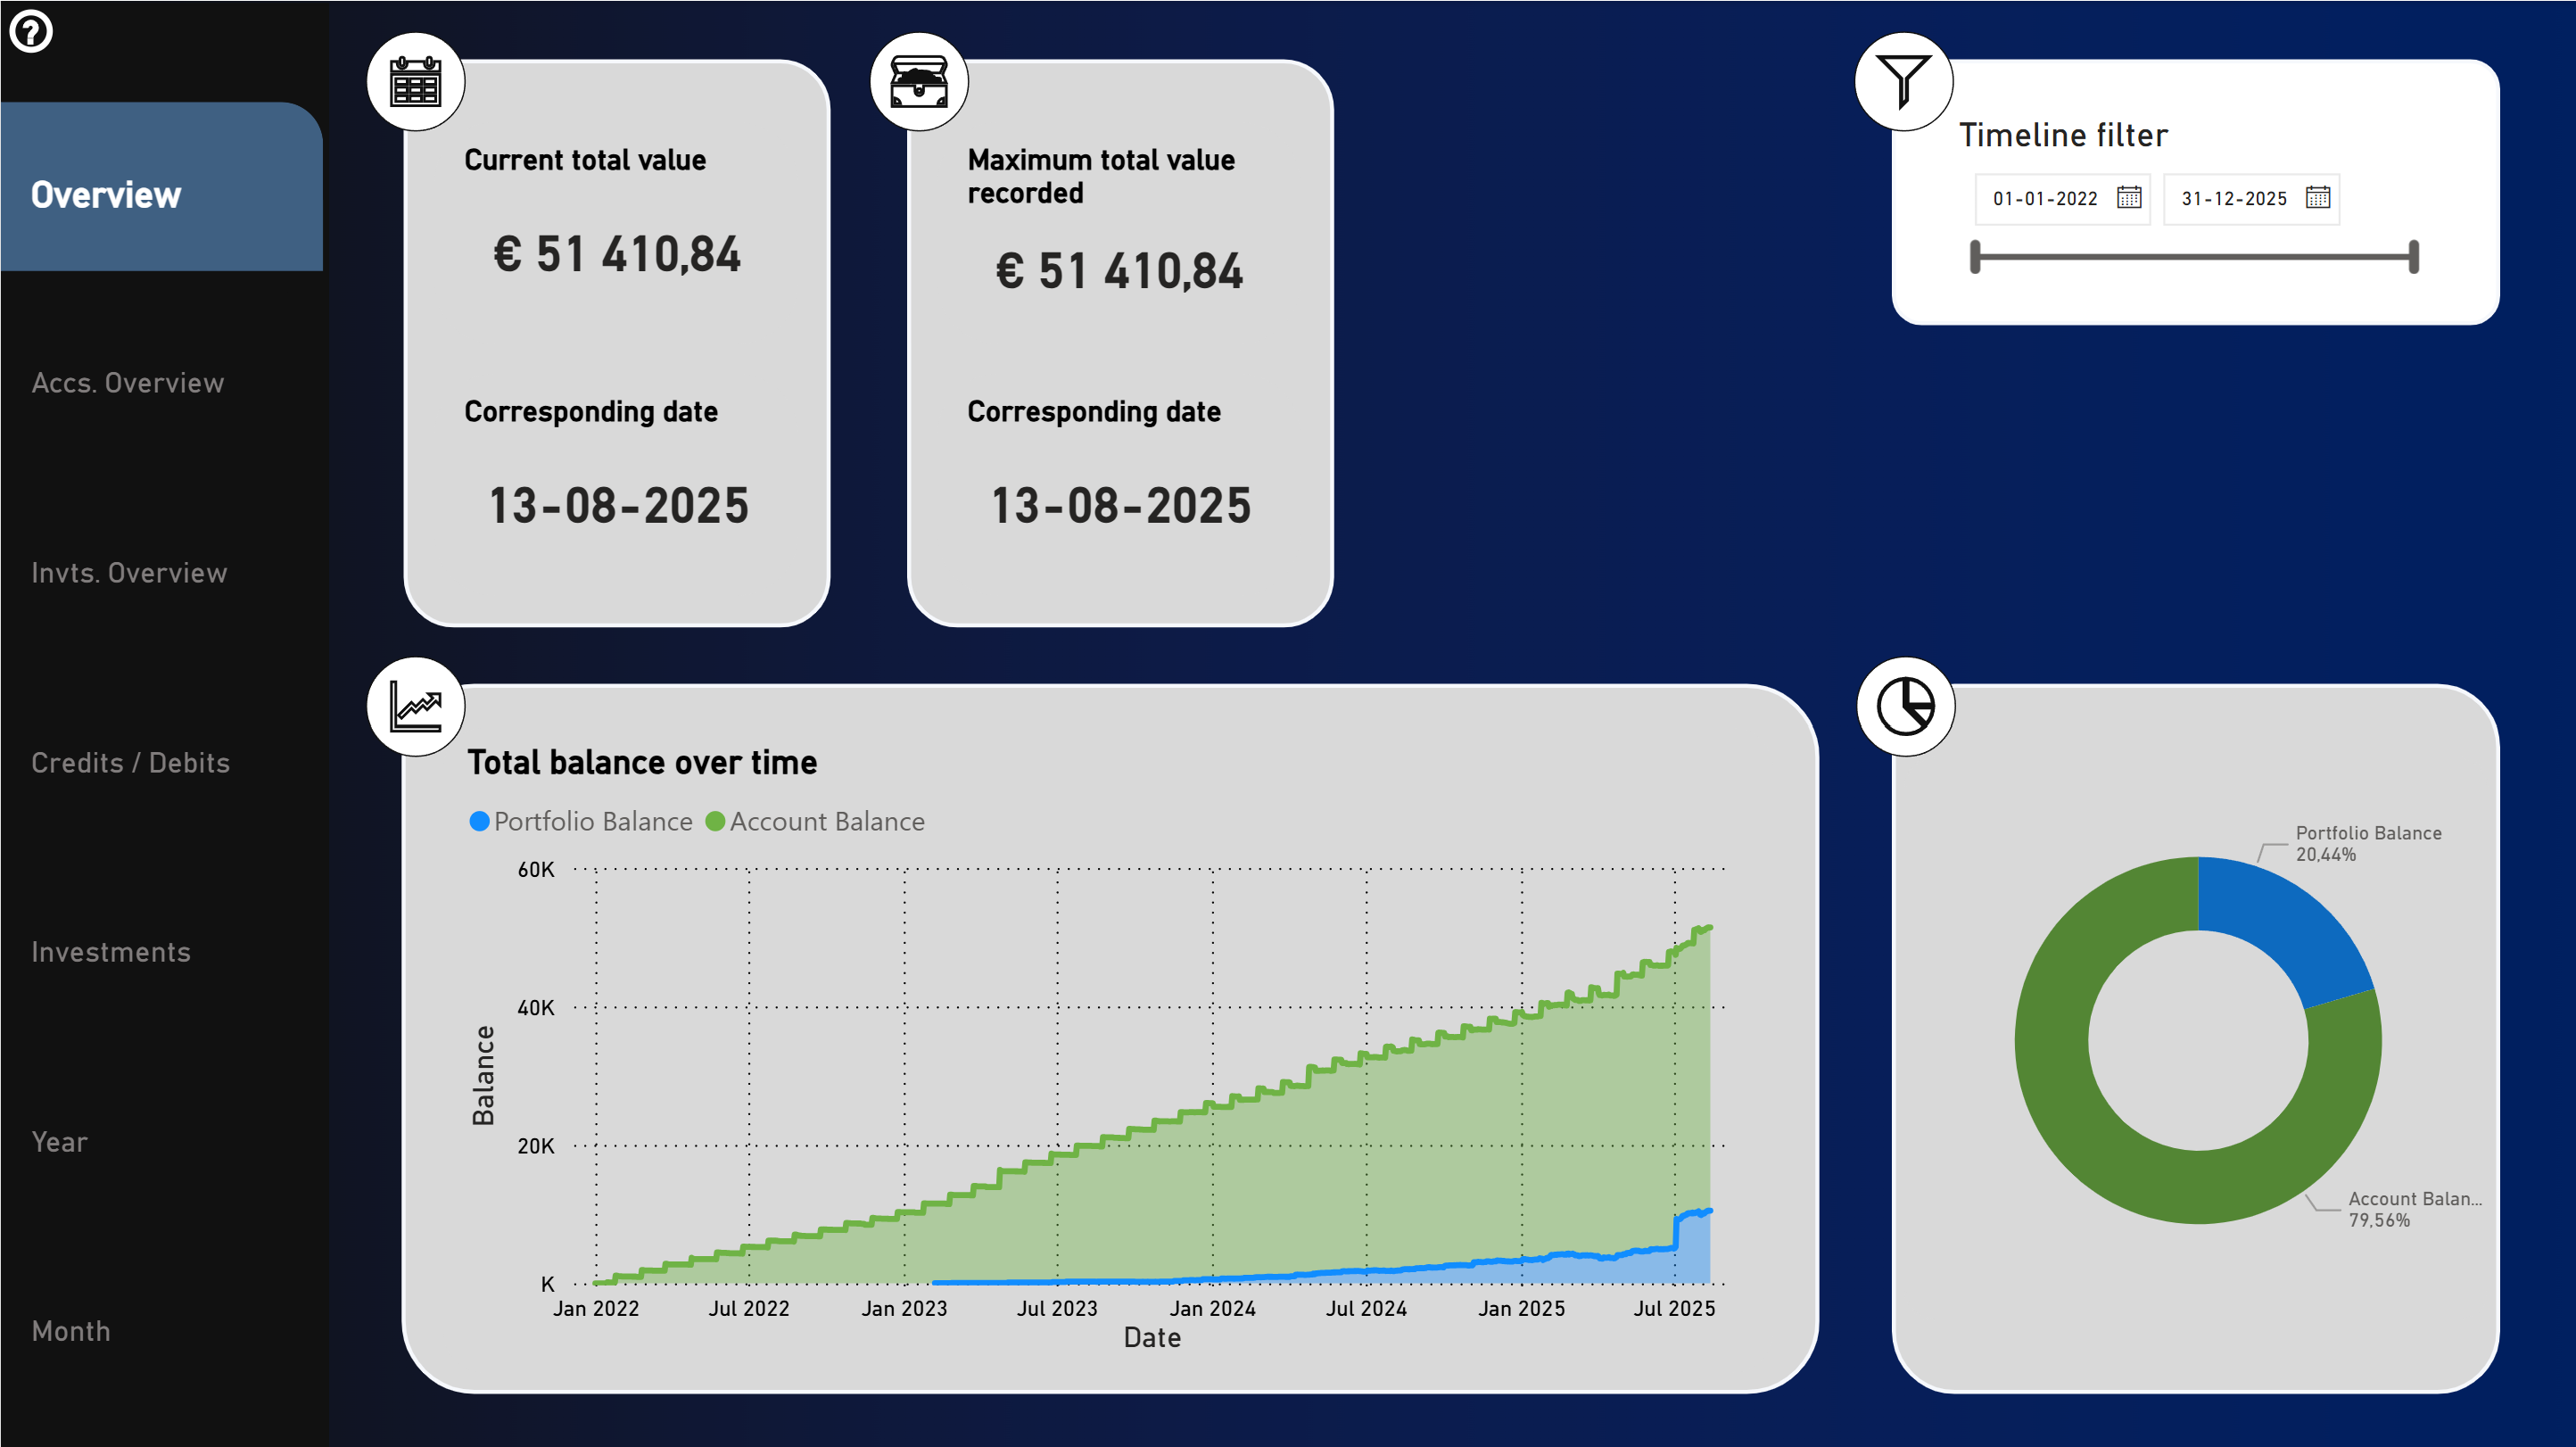

The page's visual inventory and layout, read from the dashboard file:
{"tool":"powerbi","page":{"name":"Overview","canvas":[1280,720],"ordinal":0},"visuals":[{"type":"pageNavigator","box":[0,30.1,160.3,689.9],"z":1000},{"type":"stackedAreaChart","title":"Total balance over time","fields":{"Category":["Calendar.Date"],"Y":["Sum(Total Balance.Open Portfolio Balance)","Sum(Total Balance.Account Balance)"]},"box":[220,360,660,320],"z":2000},{"type":"card","title":"Corresponding date","fields":{"Values":["Total Balance.TB Max Daily Balance Date"]},"box":[465,185,180,110],"z":3000},{"type":"card","title":"Maximum total value recorded","fields":{"Values":["Total Balance.TB Max Daily Balance"]},"box":[465,60.2,180,110],"z":5000},{"type":"card","title":"Corresponding date","fields":{"Values":["Total Balance.TB_Latest Date"]},"box":[215,185,180.7,110],"z":6000},{"type":"card","title":"Current total value","fields":{"Values":["Total Balance.Current Total Balance"]},"box":[215,60,180.7,110],"z":8000},{"type":"slicer","title":"Timeline filter","fields":{"Values":["Calendar.Date"]},"box":[960,50,260.4,90.3],"z":11000},{"type":"actionButton","title":"Information button","box":[0,0,30,30],"z":12000},{"type":"donutChart","fields":{"Y":["Total Balance.Current Portfolio Balance","Total Balance.Current Account Balance"]},"box":[945,375,290,280],"z":13000}]}

Visuals, with their boxes on the page's 1280x720 design canvas (x1, y1, x2, y2). These are canvas units, not pixel positions in the 2576x1447 screenshot, which may show the page scaled, cropped or inside an application window:
pageNavigator: (left=0, top=30, right=160, bottom=720)
"Total balance over time" stackedAreaChart: (left=220, top=360, right=880, bottom=680)
"Corresponding date" card: (left=465, top=185, right=645, bottom=295)
"Maximum total value recorded" card: (left=465, top=60, right=645, bottom=170)
"Corresponding date" card: (left=215, top=185, right=396, bottom=295)
"Current total value" card: (left=215, top=60, right=396, bottom=170)
"Timeline filter" slicer: (left=960, top=50, right=1220, bottom=140)
"Information button" actionButton: (left=0, top=0, right=30, bottom=30)
donutChart - Total Balance.Current Portfolio Balance x Total Balance.Current Account Balance: (left=945, top=375, right=1235, bottom=655)
